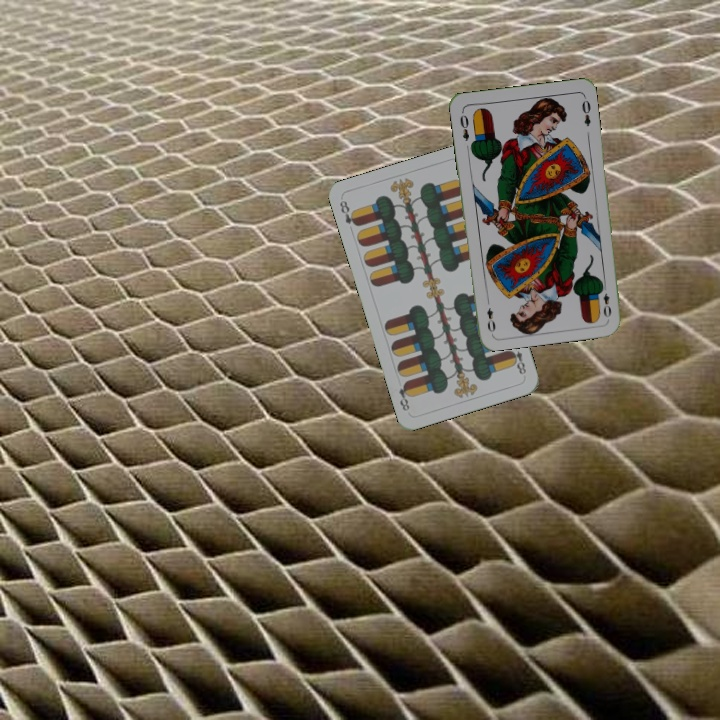E8: (336, 196, 361, 229), (506, 346, 529, 377)
EO: (596, 280, 614, 320), (456, 111, 472, 144)
